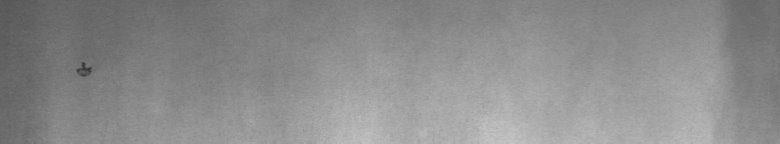fi: (73, 56, 96, 84)
